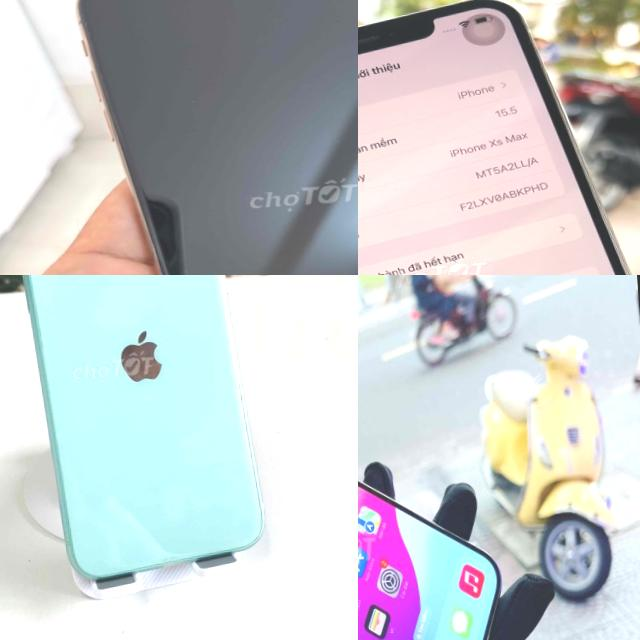gen_11: (3, 275, 273, 581)
gen_12_13: (358, 377, 518, 640)
gen_x_xs: (80, 0, 358, 275), (358, 0, 630, 275)
